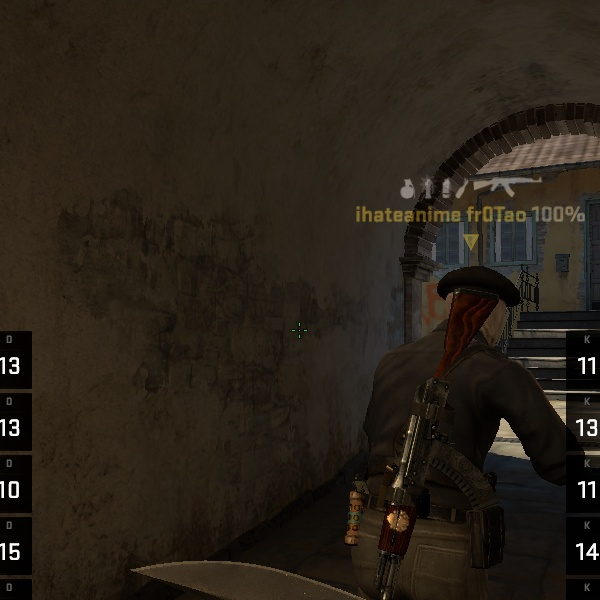t_body: (313, 256, 583, 600), (346, 479, 428, 599)
t_head: (392, 254, 533, 368)
